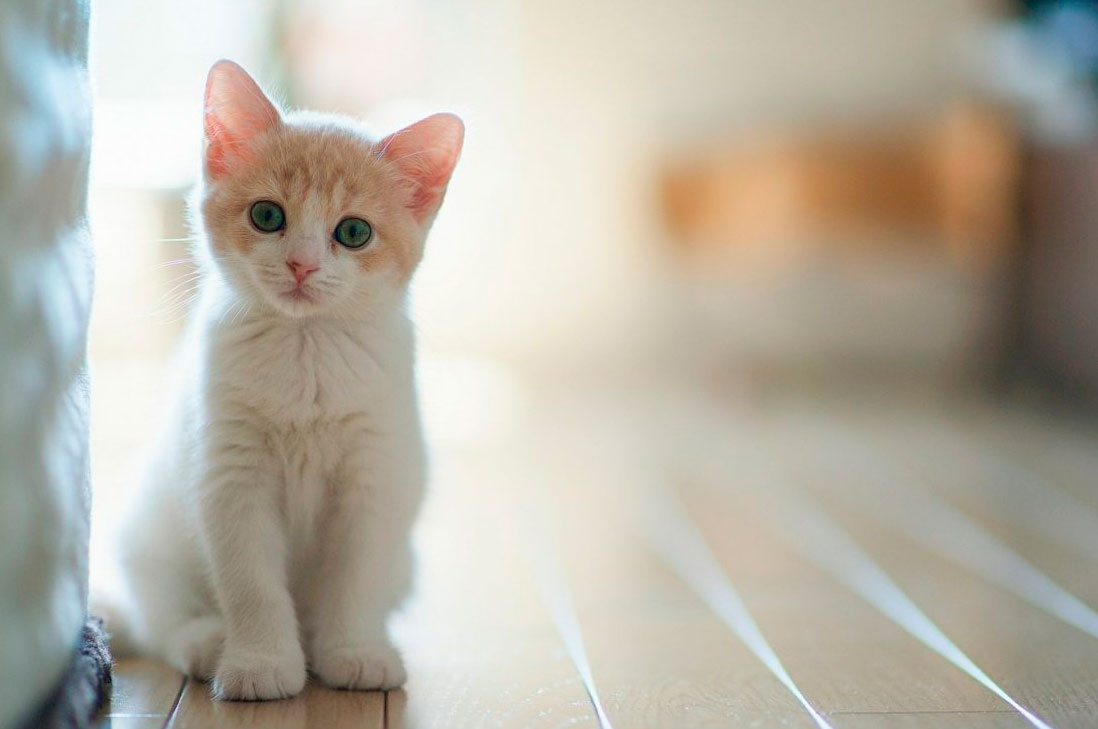cat: (163, 69, 479, 713)
